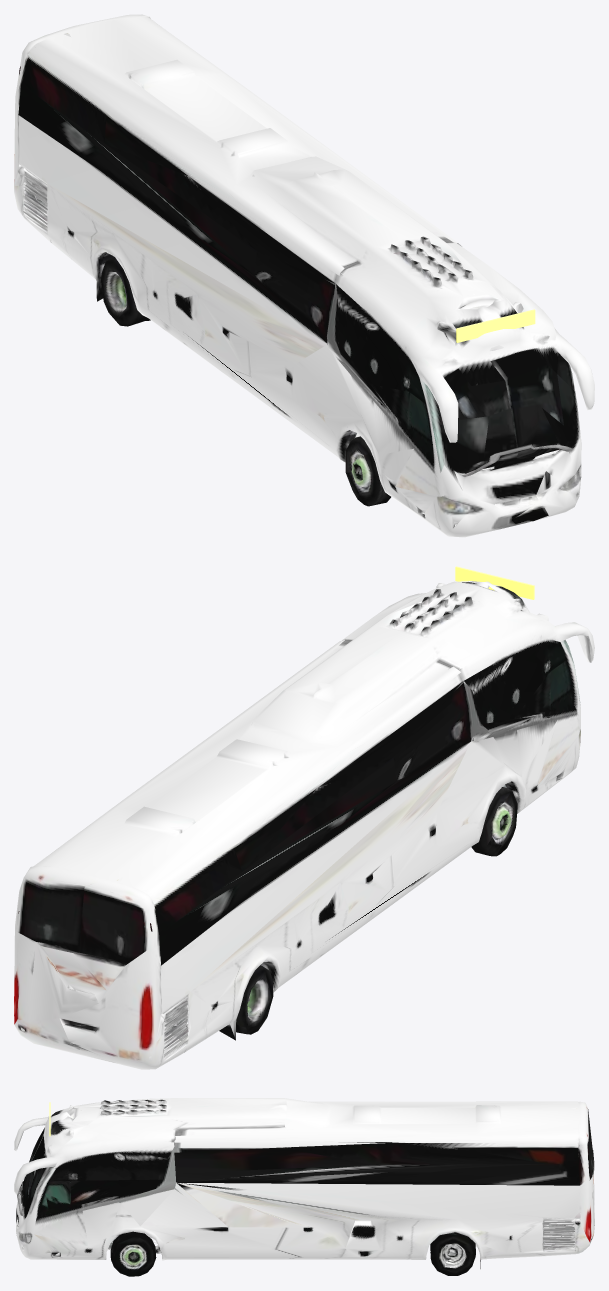
The model's file is coach-a.glb.
The picture shows the model from 3 angles, top to bottom: view 1: azimuth 30°, elevation 25°; view 2: azimuth 150°, elevation 25°; view 3: azimuth 270°, elevation 25°; orthographic projection. The views are drawn at different scales.
Visible parts, largest first — view 1: body, axle_0, axle_1, dest; view 2: body, axle_0, axle_1, dest; view 3: body, axle_0, axle_1.
Boxes of the visible parts, x1,y1,x2,y2 form: body: (14, 14, 594, 537); axle_0: (345, 436, 390, 506); axle_1: (101, 257, 149, 326); dest: (456, 309, 535, 342); body: (14, 581, 594, 1069); axle_0: (471, 787, 517, 856); axle_1: (236, 965, 273, 1034); dest: (455, 566, 534, 599); body: (14, 1098, 594, 1268); axle_0: (110, 1231, 156, 1276); axle_1: (430, 1232, 475, 1275).
Bounding box in the file's own units: 2.52 × 3.65 × 12.8.
Materials: 2 (1 with a texture image).
